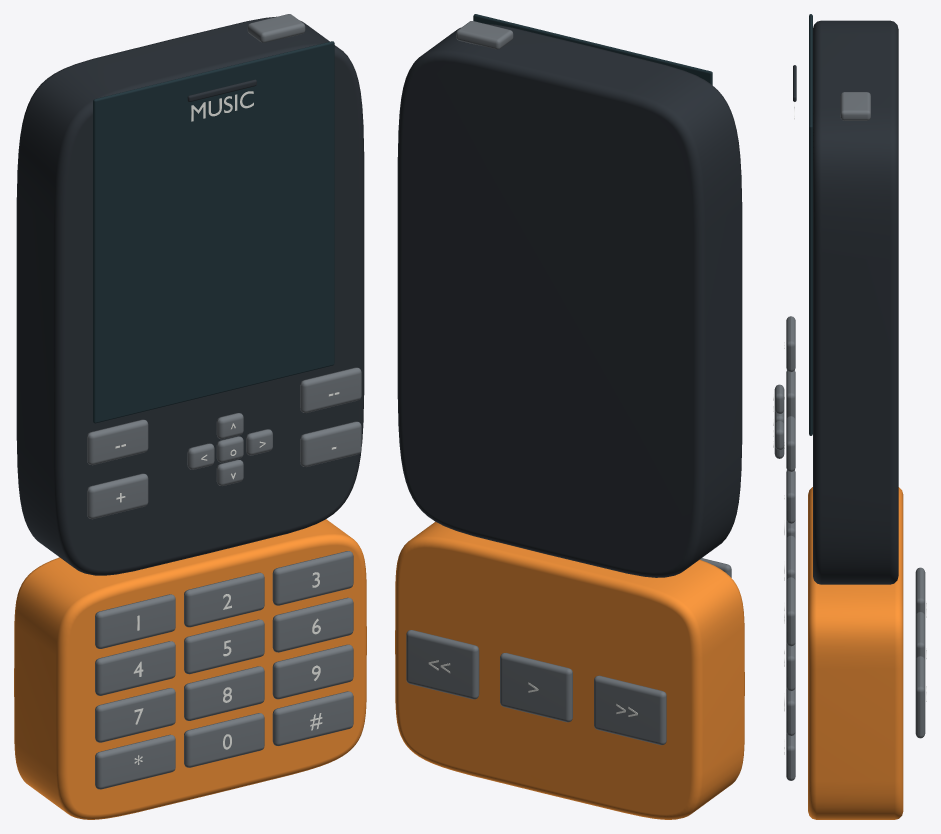
File: twist-collection.glb
The picture shows the model from 3 angles, left to right: view 1: azimuth 30°, elevation 25°; view 2: azimuth 150°, elevation 25°; view 3: azimuth 270°, elevation 25°; orthographic projection. The views are drawn at different scales.
Parts seen in each view (by area): view 1: Twist_upper, Display_glass, Twist_lower, Key_digit:3, Key_digit:1, Key_digit:*, Key_digit:6, Key_digit:#, Key_digit:9, Key_digit:7, Key_digit:4, Key_digit:5 (+8 smaller); view 2: Twist_upper, Twist_lower, Key_track:prev, Key_play, Key_track:next, Display_glass, Power; view 3: Twist_upper, Twist_lower, Display_glass, Power, Key_track:prev, Key_digit:3, Key_soft:right, Key_soft:left, Key_end, Key_play, Key_track:next, Key_contacts (+4 smaller).
Boxes of the visible parts, x1,y1,x2,y2 form: Twist_upper: (16,16,364,575); Display_glass: (93,41,334,423); Twist_lower: (14,519,366,819); Key_digit:3: (272,551,353,605); Key_digit:1: (95,594,175,648); Key_digit:*: (95,734,175,789); Key_digit:6: (272,597,353,652); Key_digit:#: (272,691,353,745); Key_digit:9: (272,644,353,699); Key_digit:7: (95,688,175,742); Key_digit:4: (95,641,175,695); Key_digit:5: (184,619,264,674); Twist_upper: (397,23,742,577); Twist_lower: (395,522,744,819); Key_track:prev: (406,630,479,699); Key_play: (500,653,572,722); Key_track:next: (594,675,666,745); Display_glass: (473,14,712,84); Power: (456,21,513,49); Twist_upper: (813,20,898,584); Twist_lower: (808,487,903,819); Display_glass: (809,14,812,435); Power: (840,92,870,120); Key_track:prev: (915,656,925,738); Key_digit:3: (786,577,795,646); Key_soft:right: (786,416,795,471); Key_soft:left: (786,316,795,371); Key_end: (786,470,795,523); Key_play: (915,612,925,660); Key_track:next: (915,567,925,615); Key_contacts: (786,370,795,419).
Bounding box in the file's own units: 1.8 × 4.08 × 0.806.
